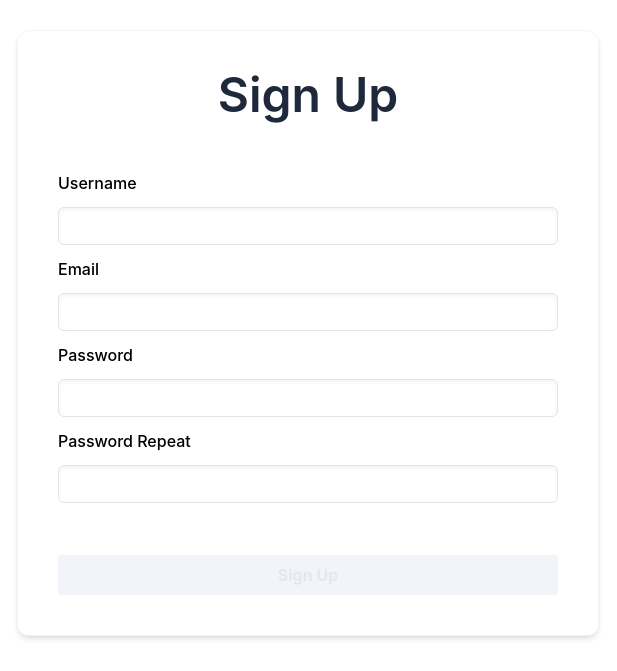
Test: Sign Up Page › interactions › displays Username cannot be null for username
The image size is (617, 671).
Type "user1" into the field labelled "Username".
click(308, 226); type("user1")  # box [58, 207, 558, 245]
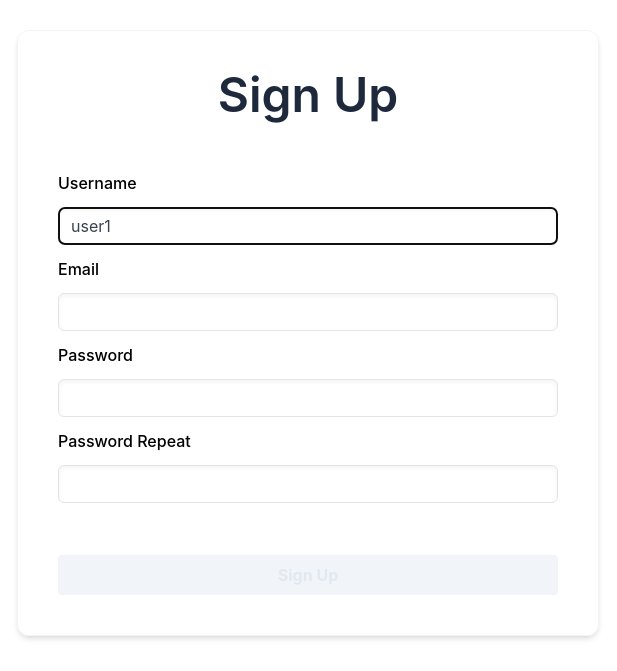
Type "224f@gmail.com" into the field labelled "Email".
click(308, 312); type("224f@gmail.com")  # box [58, 293, 558, 331]
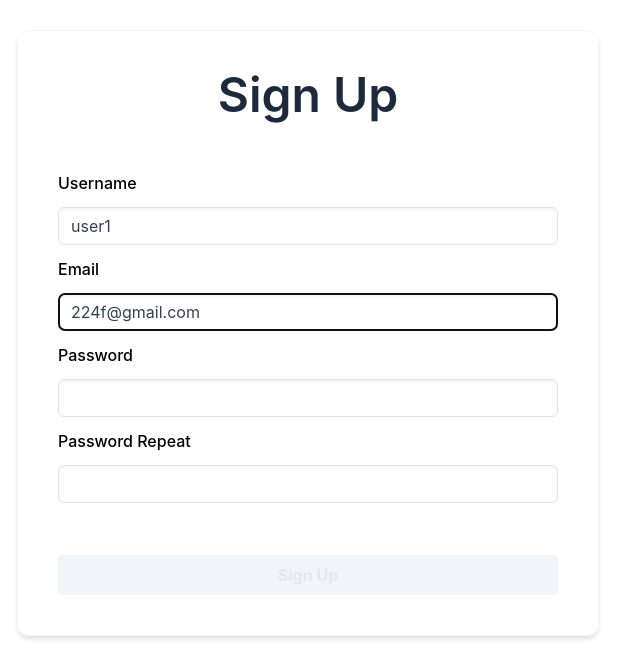
Type "Password" into the password field labelled "Password".
click(308, 398); type("Password")  # box [58, 379, 558, 417]
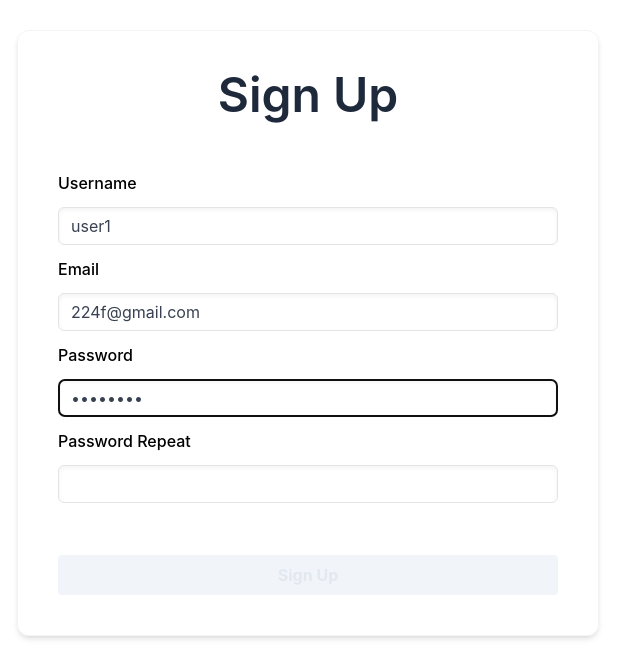
Type "Password" into the password field labelled "Password Repeat".
click(308, 484); type("Password")  # box [58, 465, 558, 503]
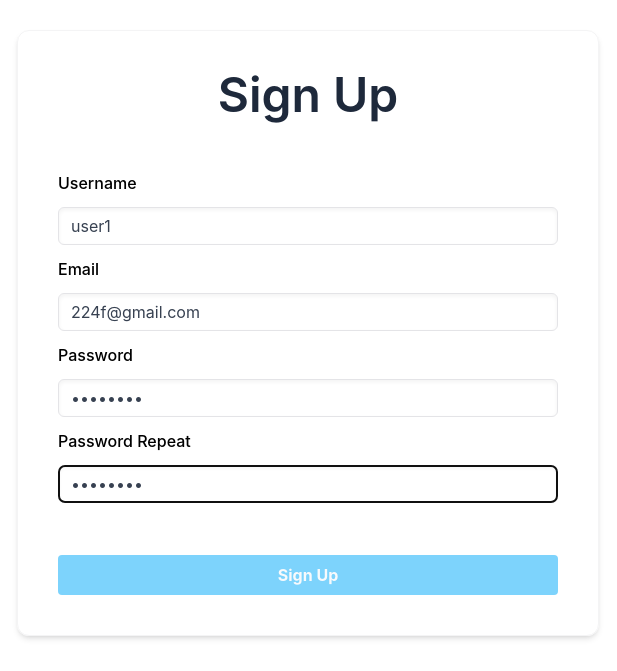
Click the button "Sign Up".
click(308, 575)  # box [58, 555, 558, 595]
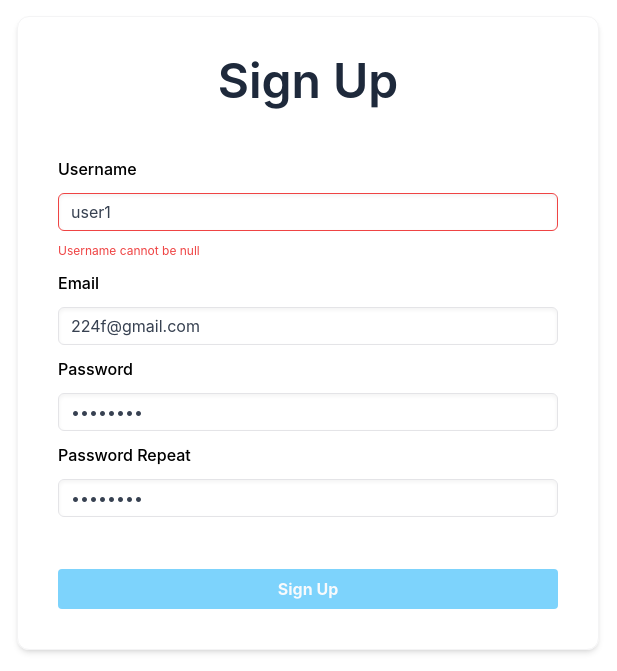
Expected: the text "Username cannot be null" is shown, [58, 243, 200, 258]
